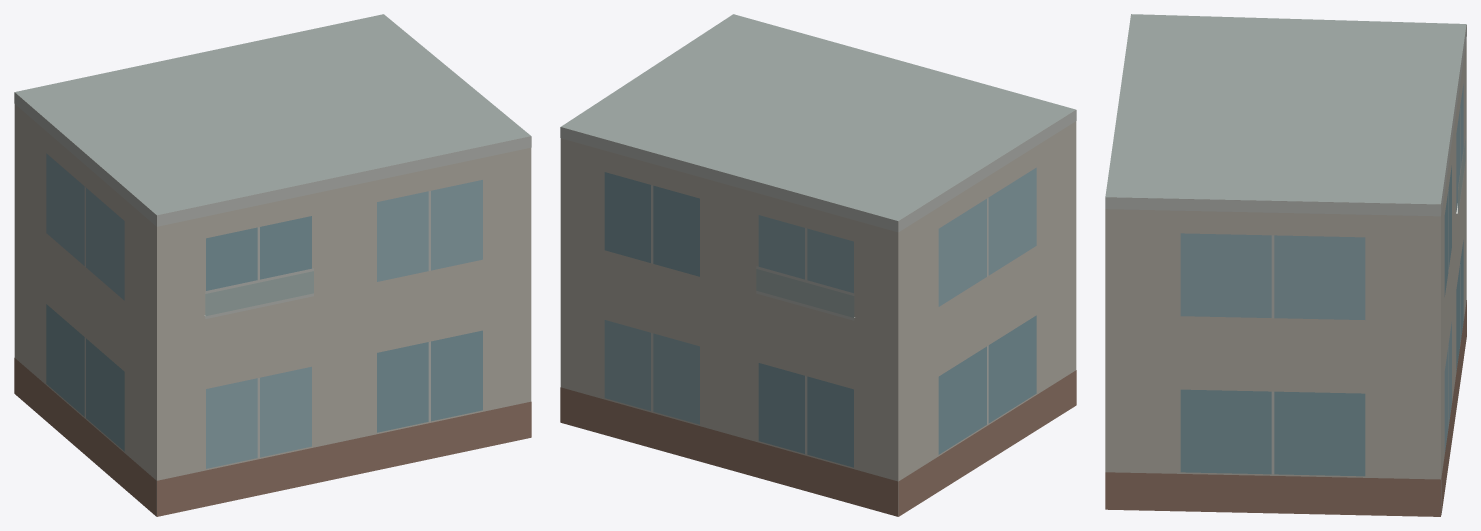
The model's file is survey-upis-32544795.glb.
The picture shows the model from 3 angles, left to right: view 1: azimuth 30°, elevation 25°; view 2: azimuth 150°, elevation 25°; view 3: azimuth 270°, elevation 25°; orthographic projection. The views are drawn at different scales.
Parts seen in each view (by area): view 1: survey-upis-32544795.tmp; view 2: survey-upis-32544795.tmp; view 3: survey-upis-32544795.tmp.
Part boxes in pixels (bbox=[...]): survey-upis-32544795.tmp: bbox=[14, 14, 531, 516]; survey-upis-32544795.tmp: bbox=[560, 14, 1076, 516]; survey-upis-32544795.tmp: bbox=[1105, 14, 1466, 516].
Bounding box in the file's own units: 8.37 × 6.4 × 6.72.
